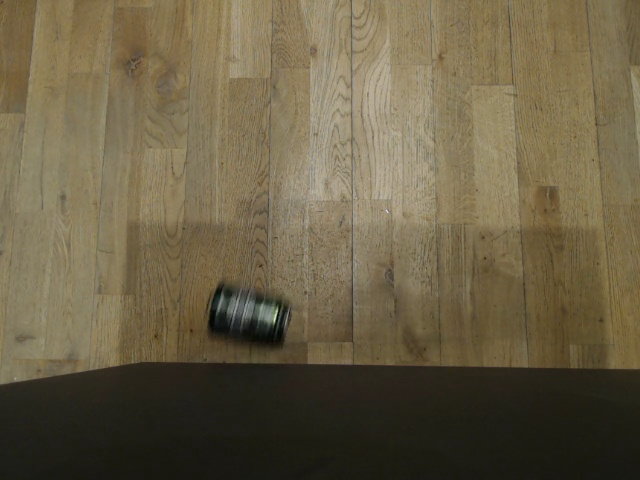beer: (201, 277, 292, 353)
